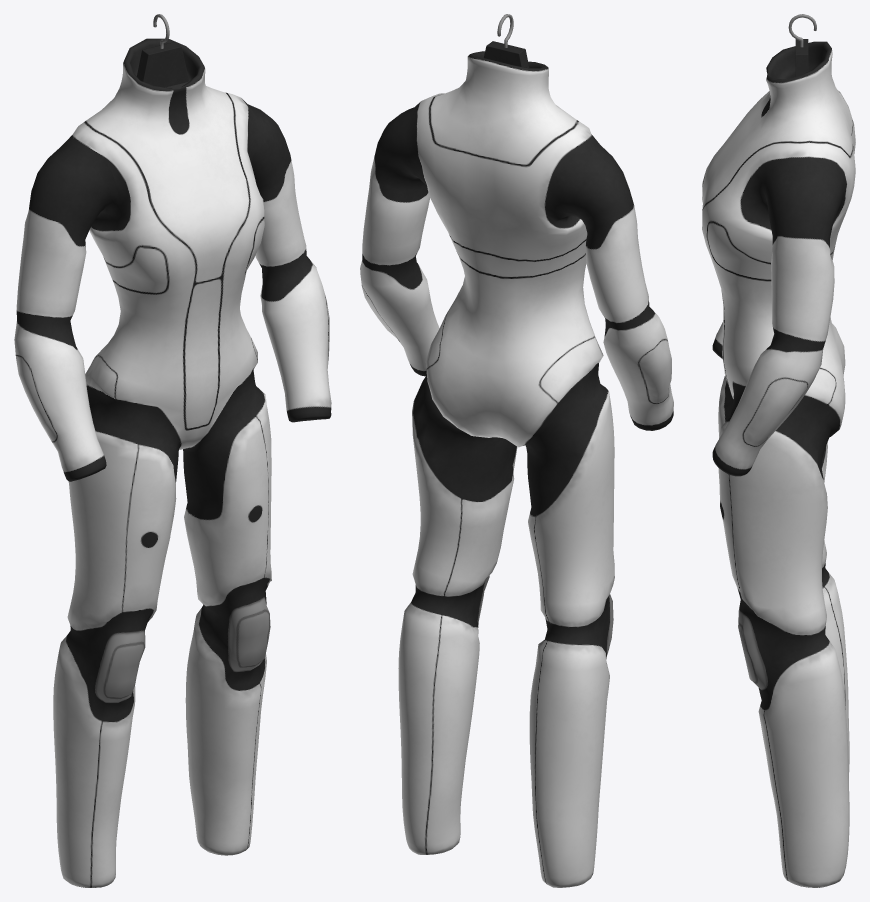
File: ClothesSuit01.FBX
3 views of the same model, side by side, from view 1: azimuth 30°, elevation 25°; view 2: azimuth 150°, elevation 25°; view 3: azimuth 270°, elevation 25° (orthographic). The views are drawn at different scales.
Visible parts, largest first — view 1: ClothesSuit01; view 2: ClothesSuit01; view 3: ClothesSuit01.
Boxes of the visible parts, box(x1,y1,x2,y2) form: ClothesSuit01: box(14, 14, 331, 887); ClothesSuit01: box(360, 14, 673, 887); ClothesSuit01: box(702, 14, 855, 887).
Size of what is drawn, in the model's own units: 0.6452 by 1.73 by 0.2899.
